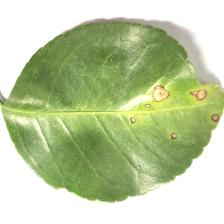canker: (116, 57, 224, 154)
